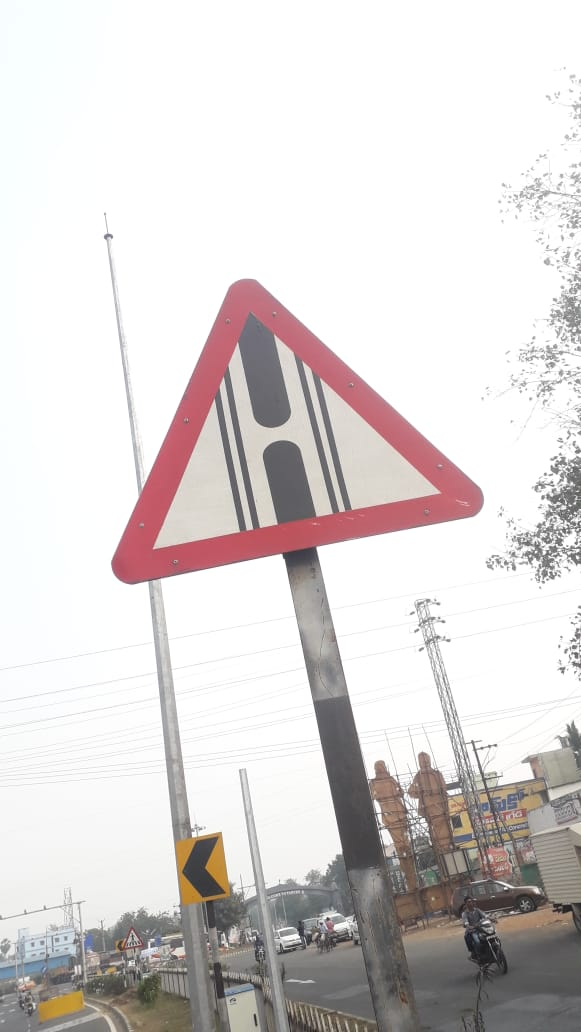highway go straight: (81, 237, 515, 591)
